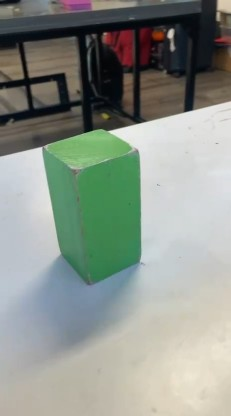green: (44, 141, 140, 288)
